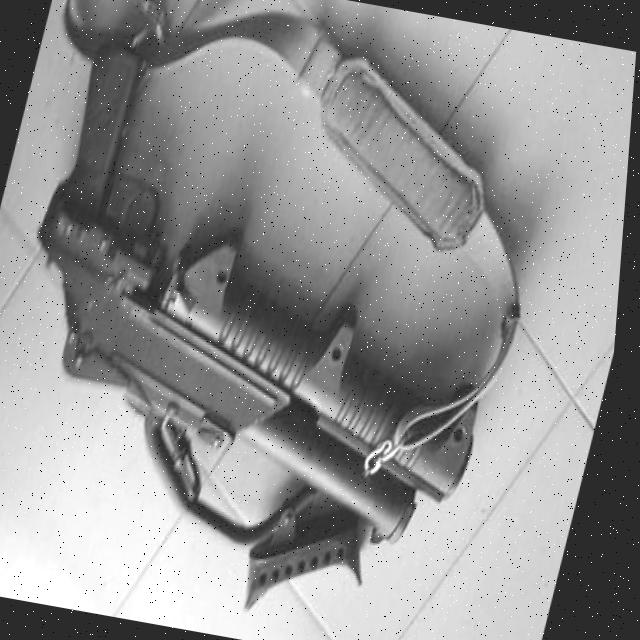firearm: (0, 39, 562, 554)
